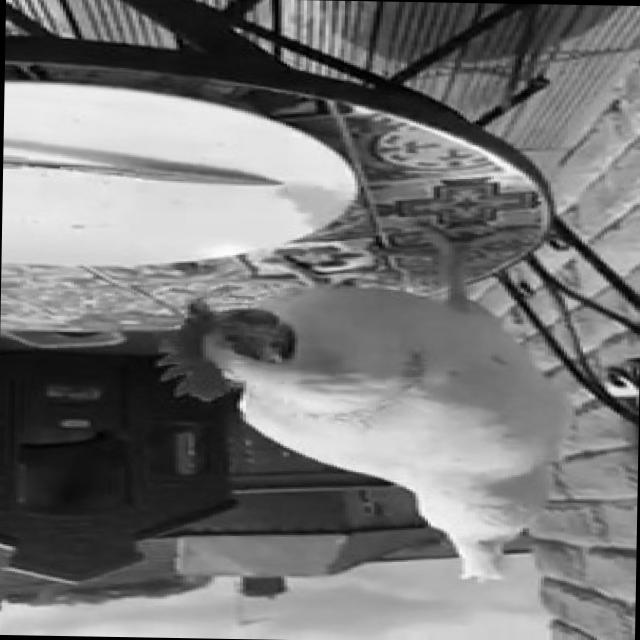pecking: (150, 224, 600, 600)
